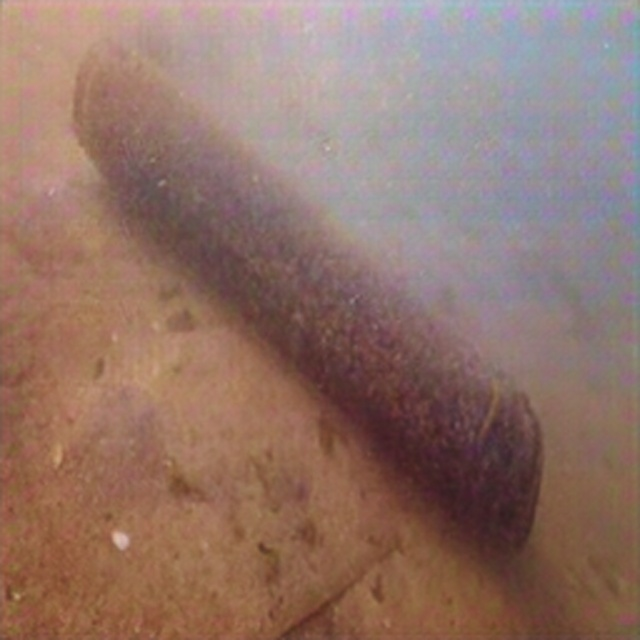mine: (68, 32, 545, 568)
